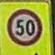limite 50: (6, 8, 42, 46)
